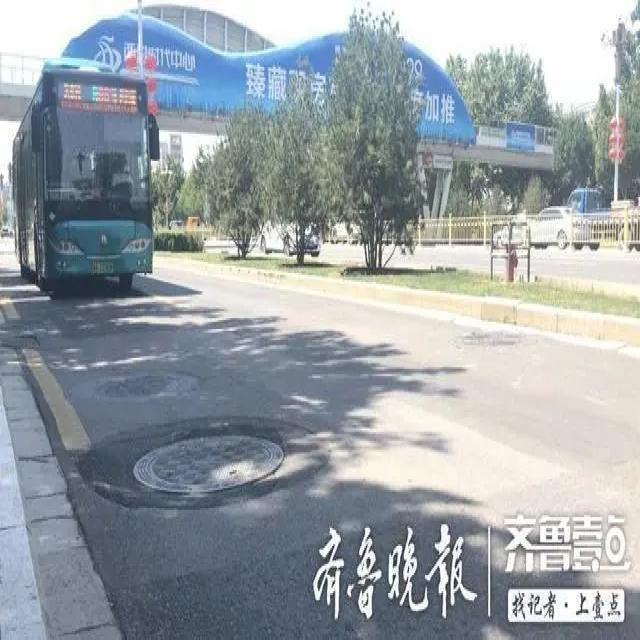manhole: (134, 435, 284, 494)
